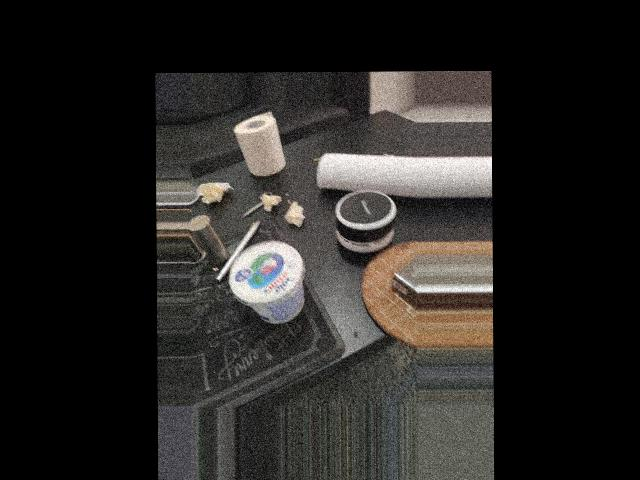cotage: (228, 245, 301, 329)
